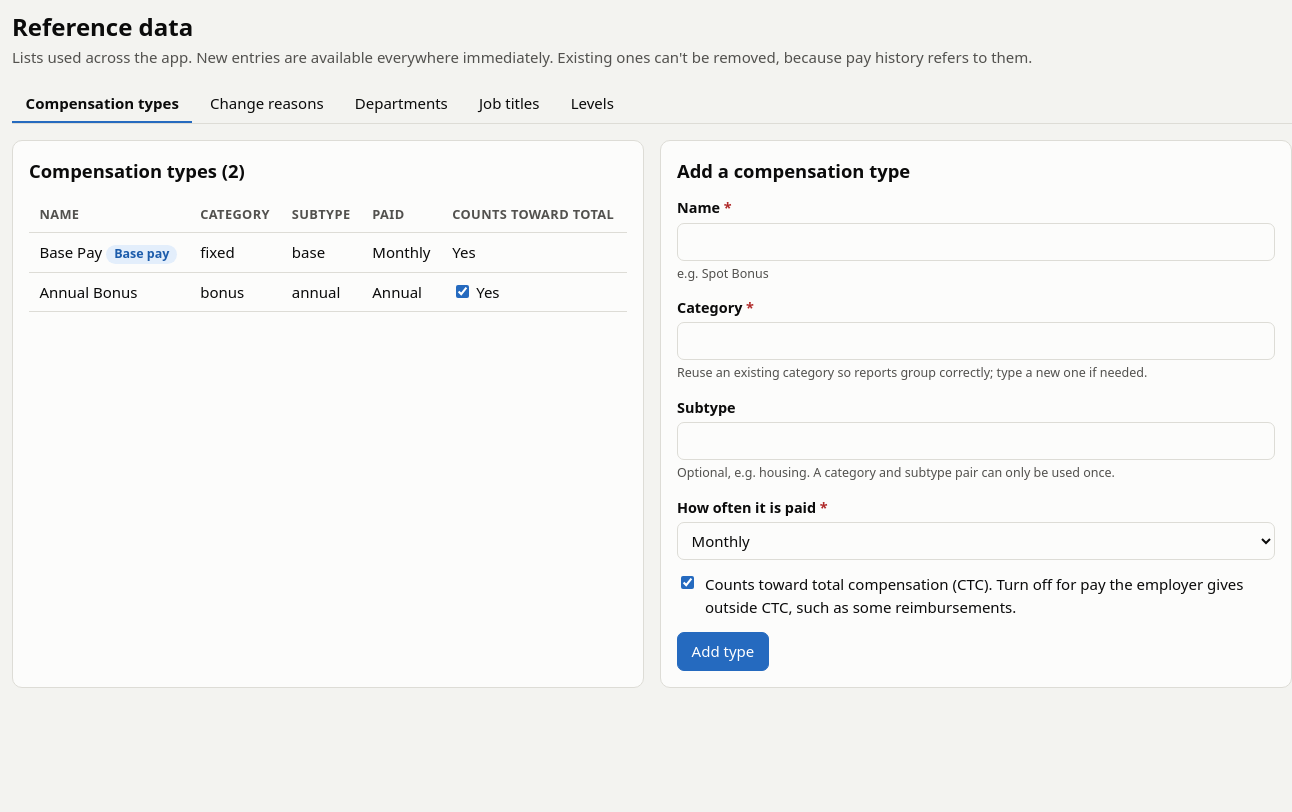
compensation types › offers a custom number of months and sends it
Type "Retention" into the field labelled "Name *".
click(976, 242); type("Retention")  # box [677,223,1275,260]
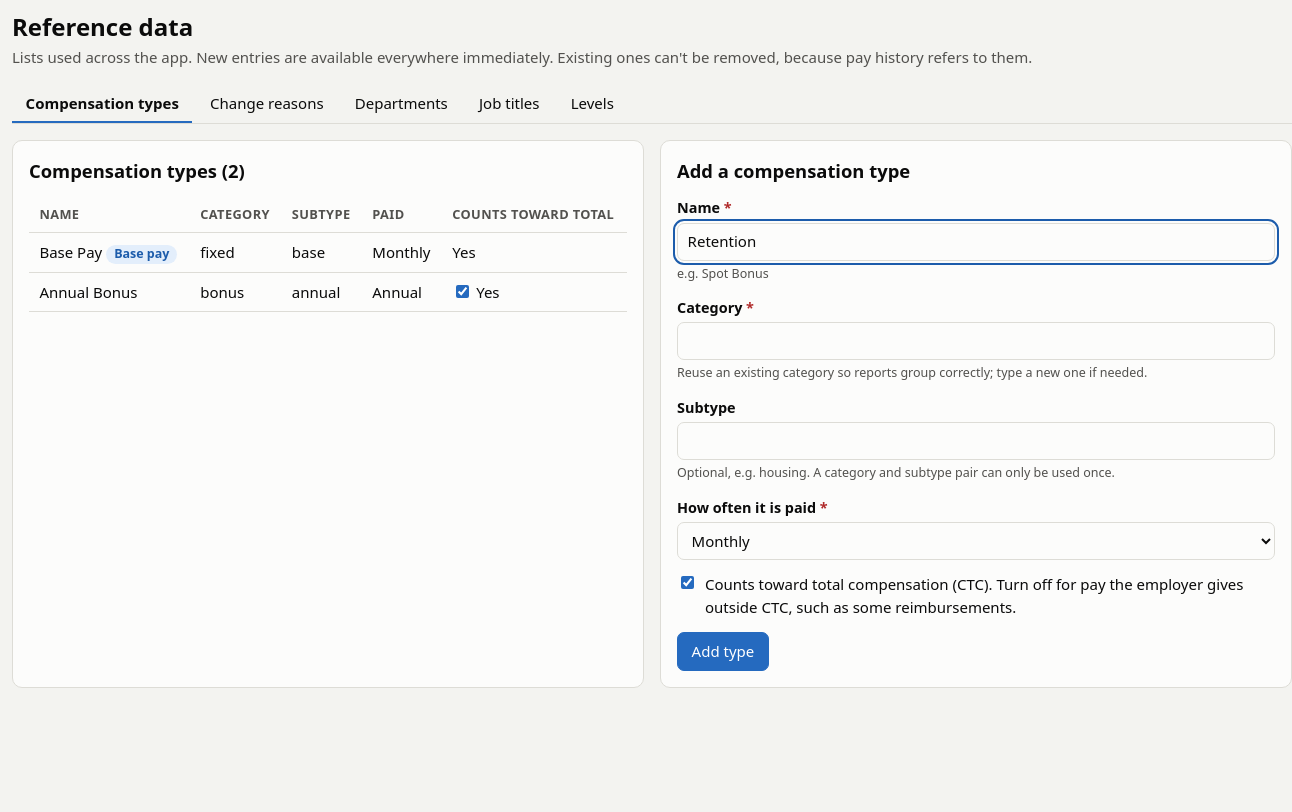
Type "bonus" into the field labelled "Category *".
click(976, 341); type("bonus")  # box [677,322,1275,360]
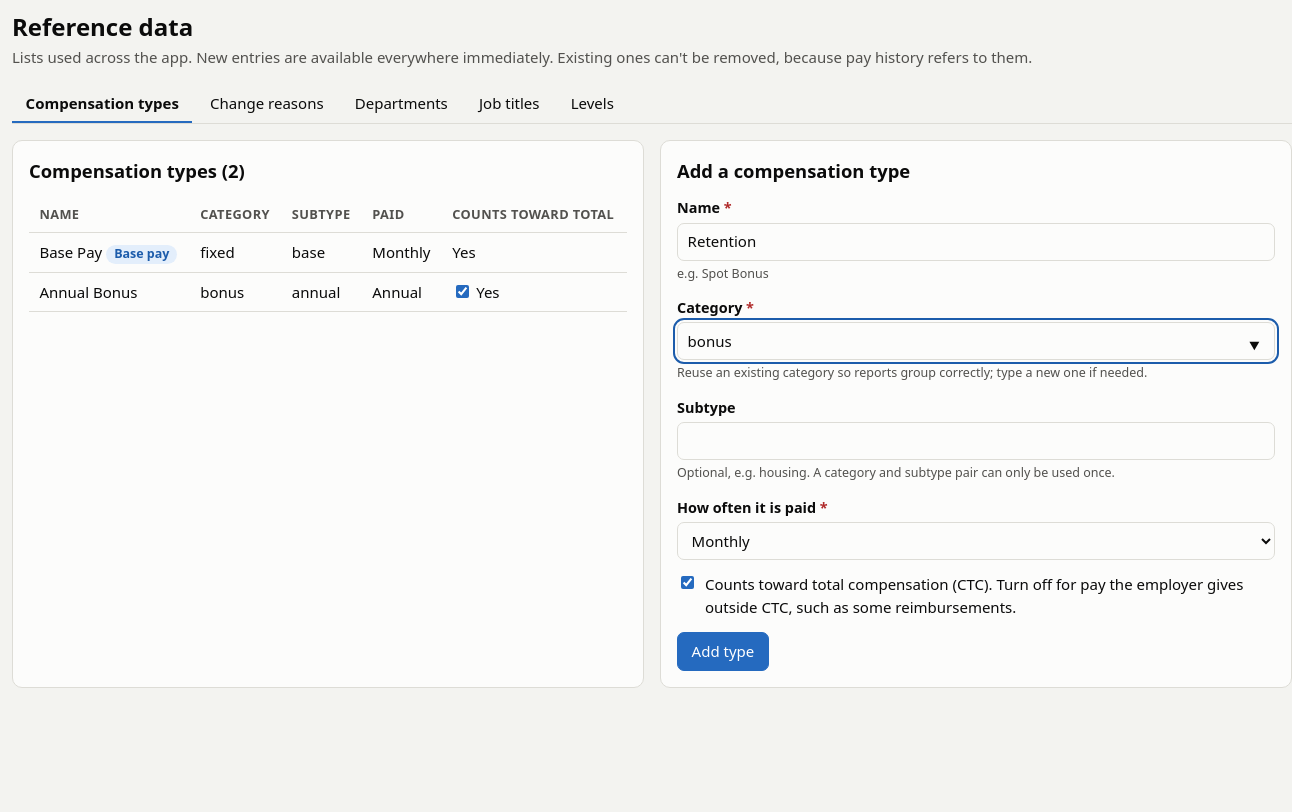
Select "Custom number of months…" in the dropdown labelled "How often it is paid *" at {"x": 976, "y": 541}, box [677,522,1275,560]
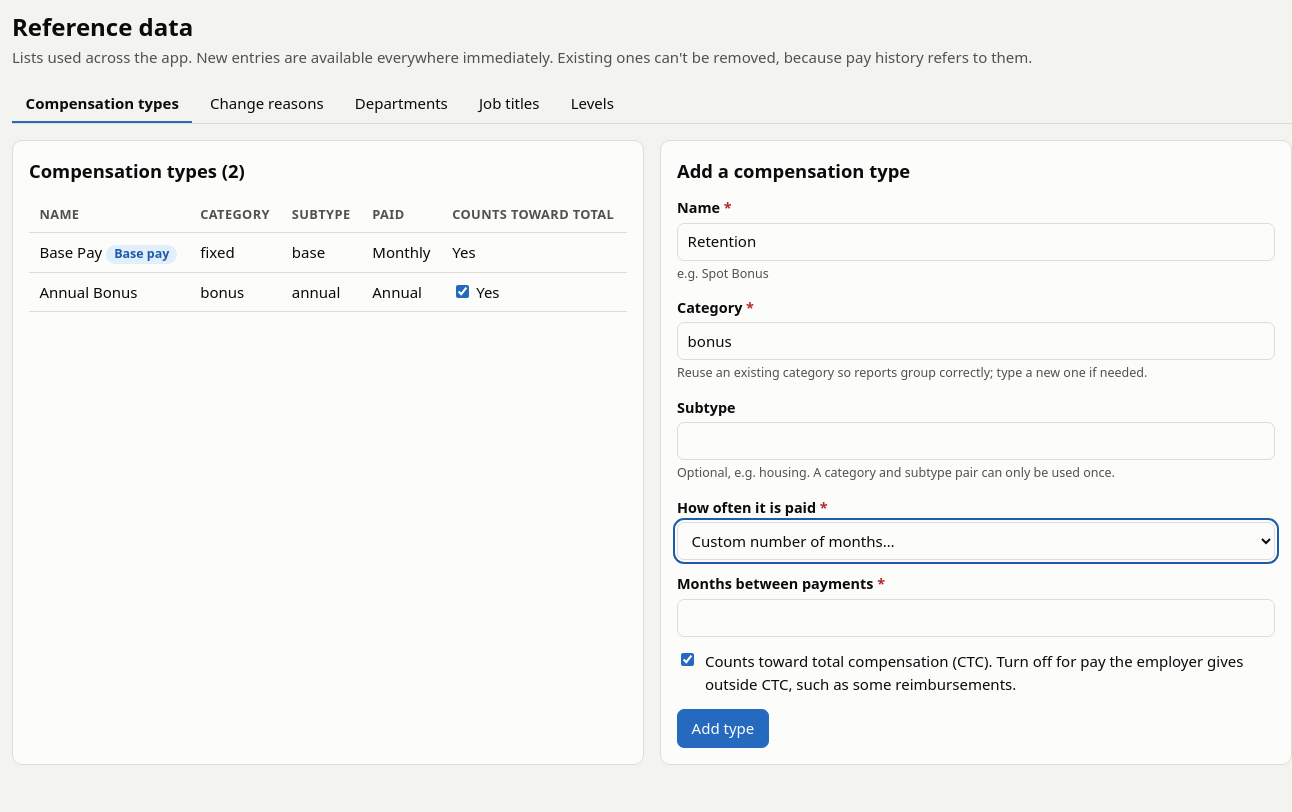
Type "24" into the field labelled "Months between payments *".
click(976, 618); type("24")  # box [677,599,1275,637]
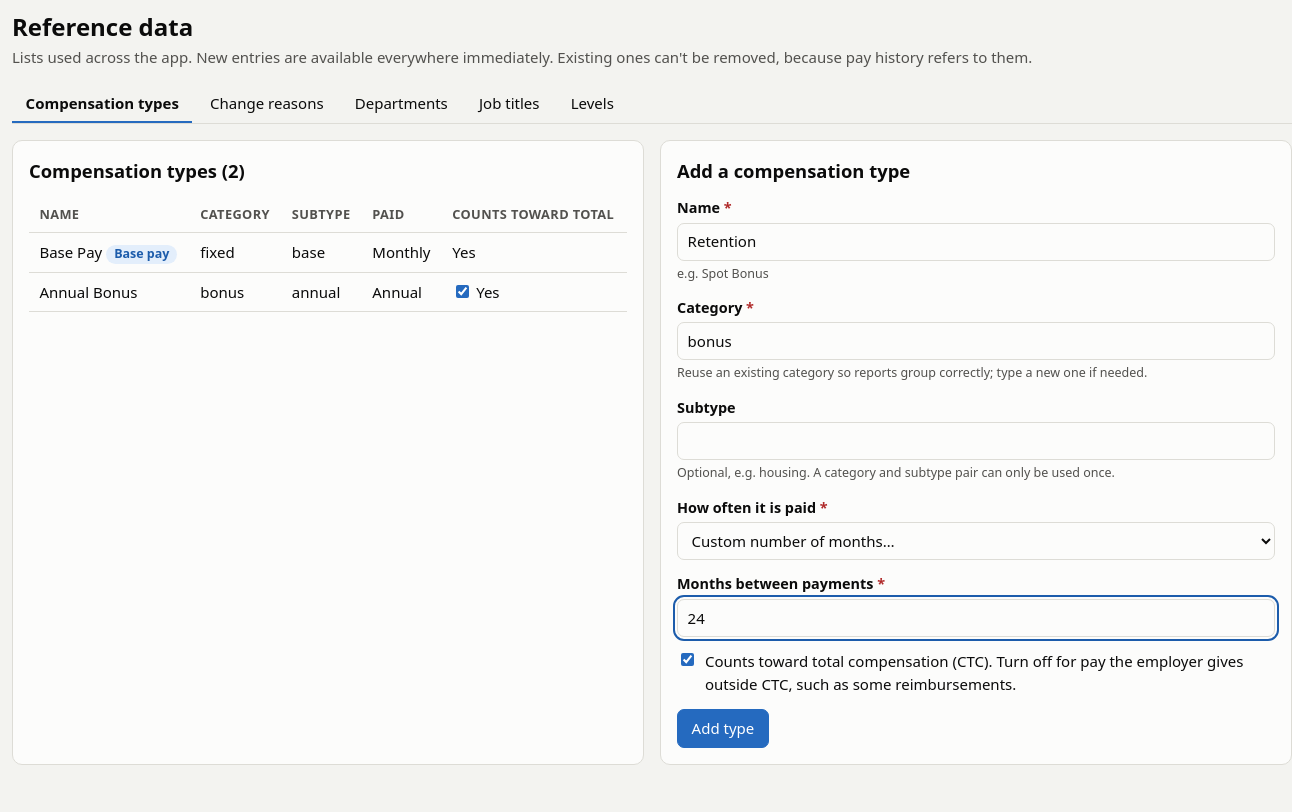
Click the 2nd checkbox.
click(688, 660)  # box [681,653,694,666]
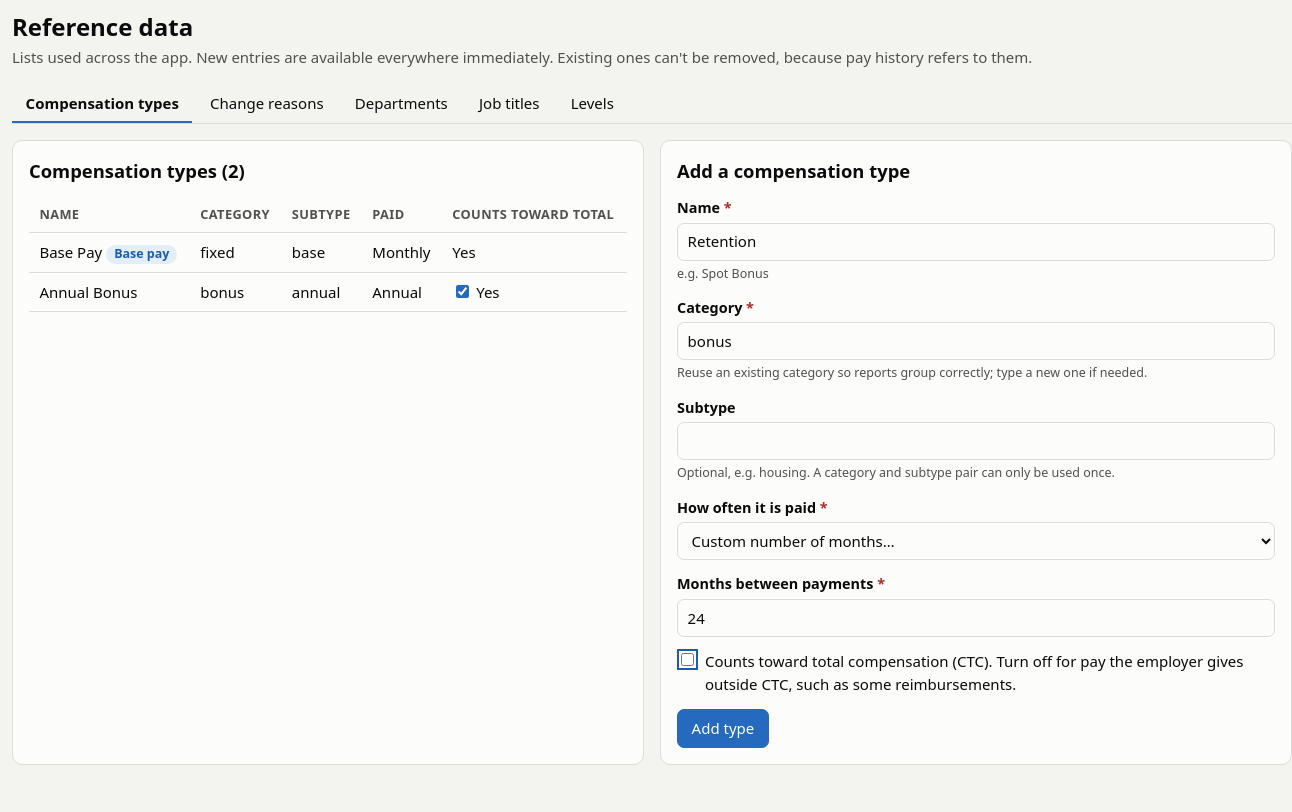
Click the button "Add type".
click(723, 728)  # box [677,709,769,748]
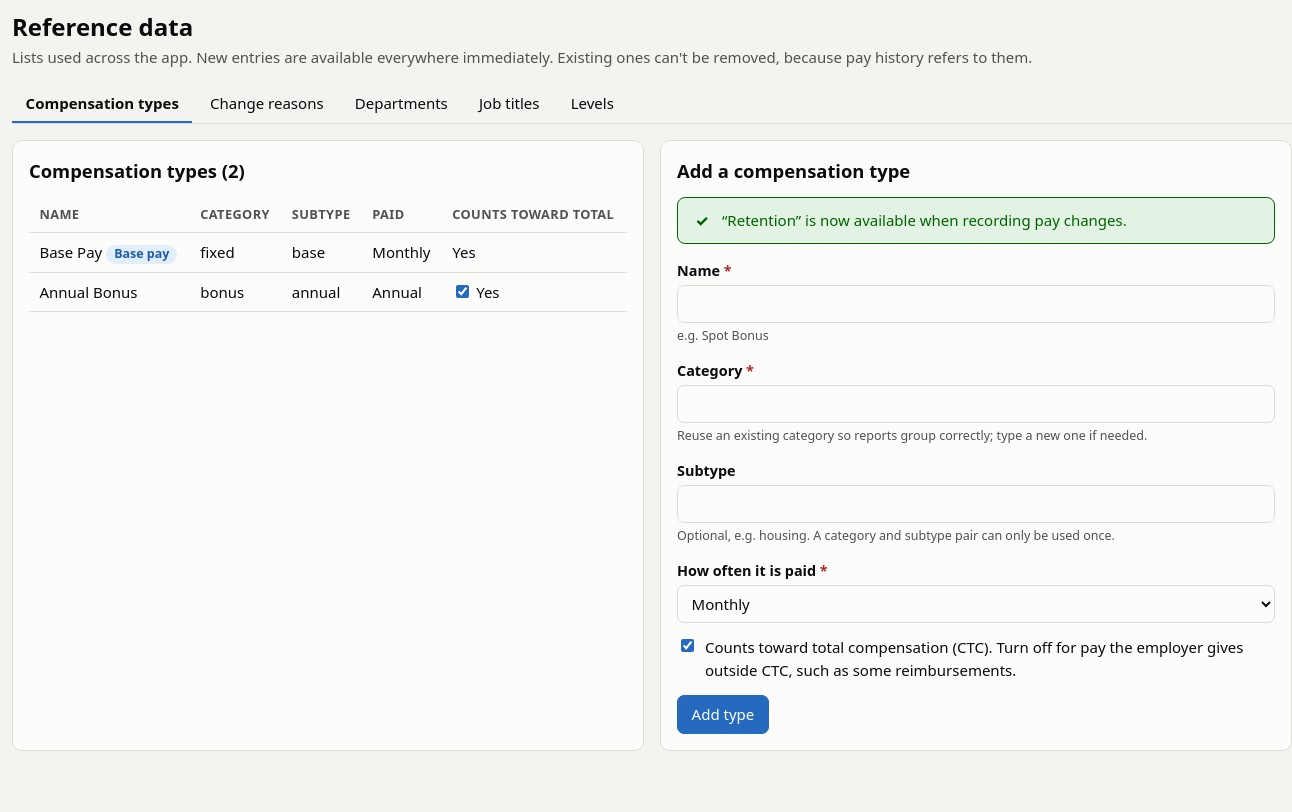
Expected: the text "“Retention” is now available when recording pay changes." is shown, [722,209,1127,232]
